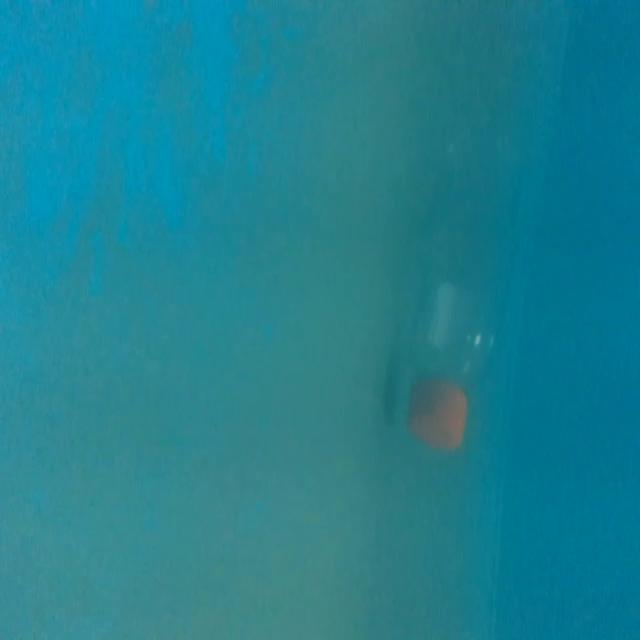plastic bottle: (389, 111, 528, 471)
